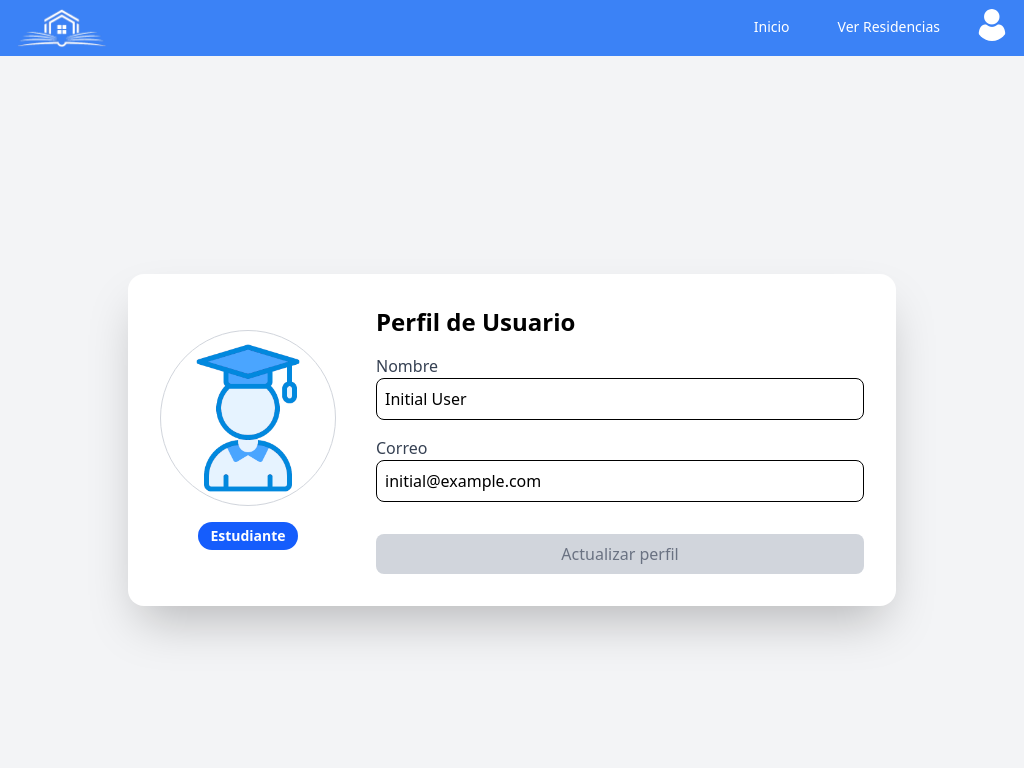
Test: User Profile Page › should enable the update button only when changes are made
The width and height of the screenshot is (1024, 768).
Expected: the button "Actualizar perfil" is disabled, [376,534,864,574]
Replace the text in the field labelled "Nombre" with "Updated User" at (620, 399), box [376,378,864,420]
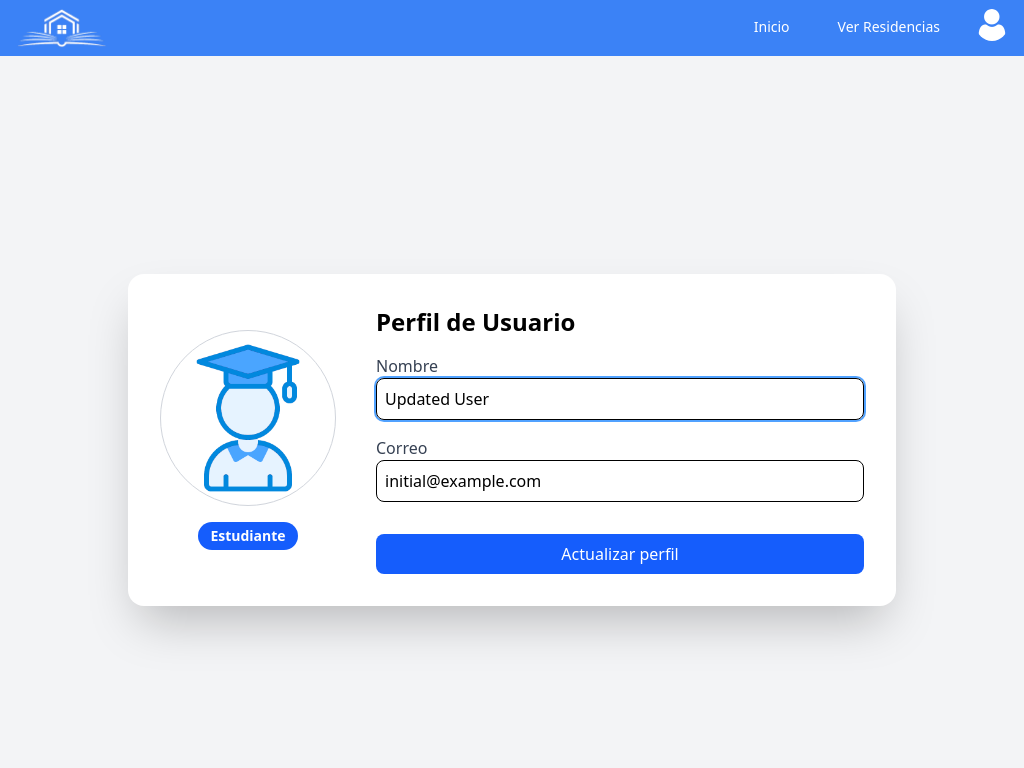
Expected: the text "Actualizar perfil" is enabled
Replace the text in the field labelled "Nombre" with "Initial User" at (620, 399), box [376,378,864,420]
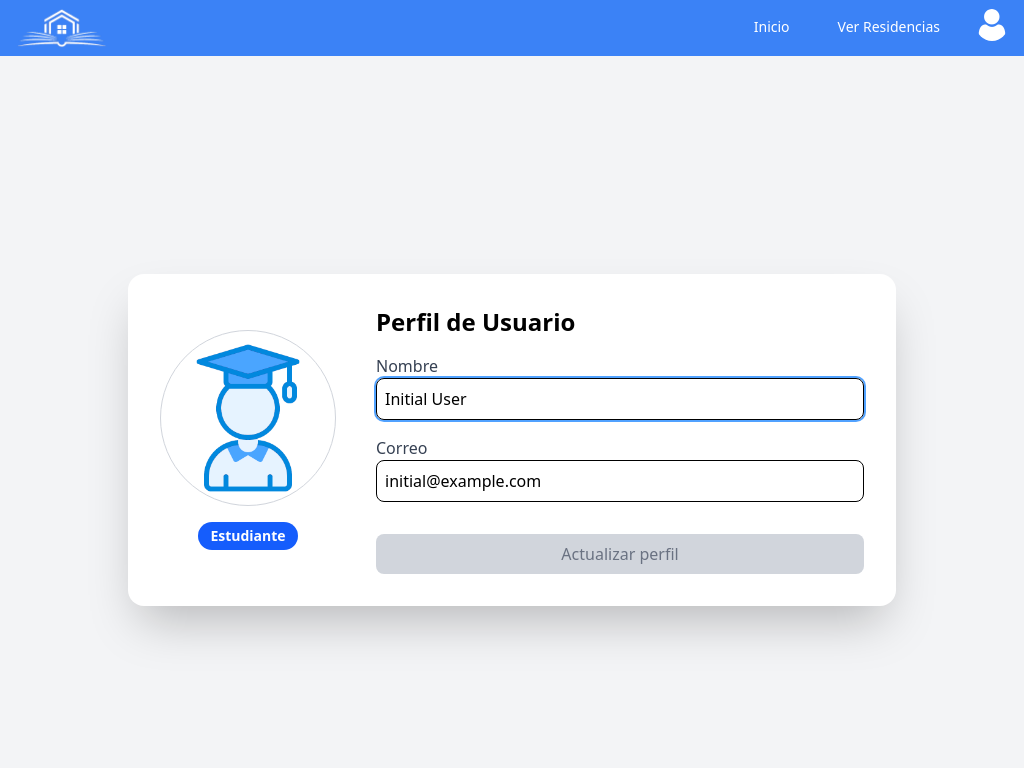
Result: the button "Actualizar perfil" is disabled at [376,534,864,574]
